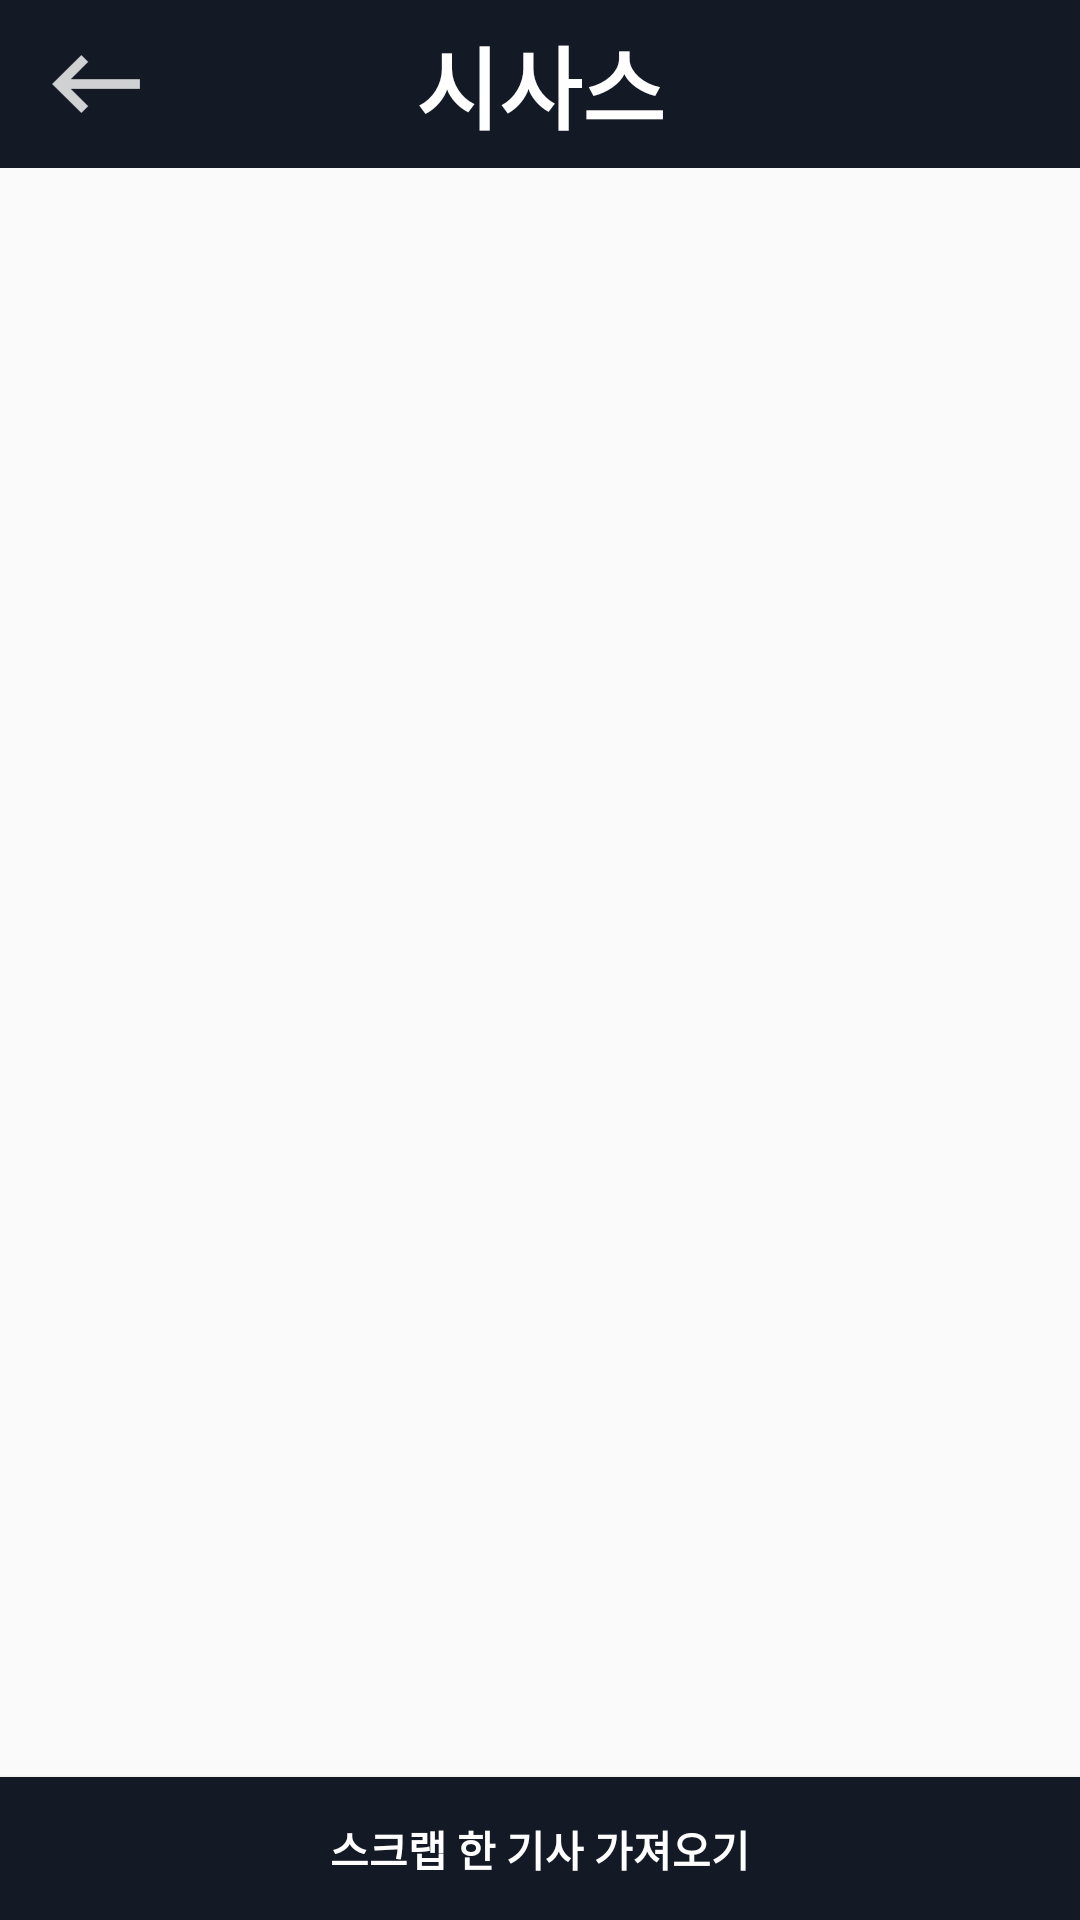

Screen size 1080w x 1920h. Icon name, then its center in pixels as (x,y):
back: (96,84)
